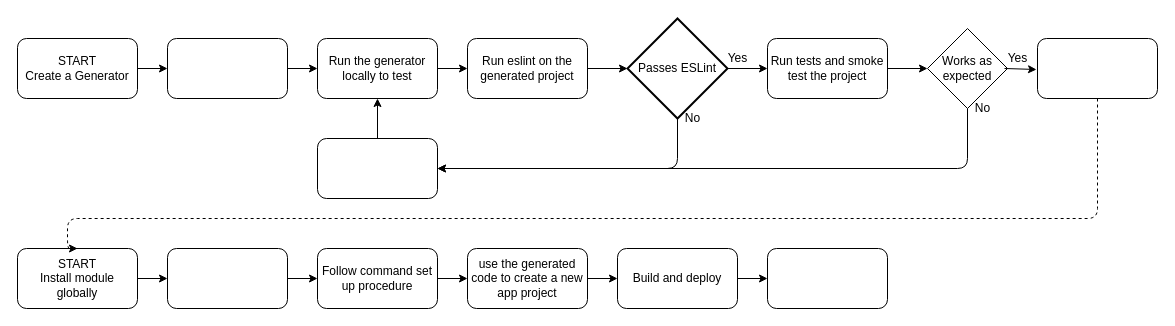
Image size: 1175x326. Some labels were removed from this diagram. Each missing label, with the centre of its shape:
"Add a template under the Generator templates folder" goes at point (227, 68).
"Amend the template" goes at point (377, 168).
"commit (github) Build and publish to artifactory (GOCD)" goes at point (1097, 68).
"LIVE" goes at point (827, 278).
"run generate command anywhere on your file system" goes at point (227, 278).
